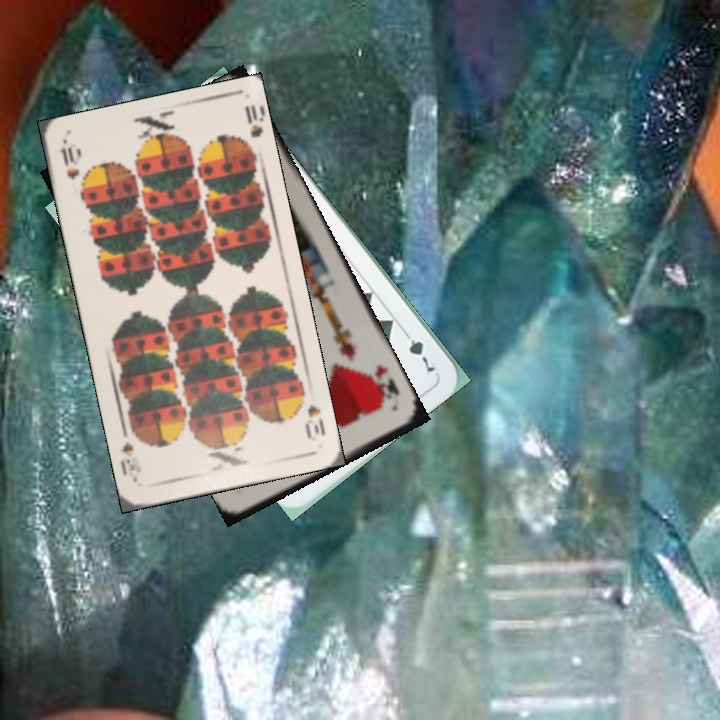G7: (398, 325, 439, 375)
HK: (366, 361, 402, 404)
S10: (294, 386, 328, 444), (55, 143, 82, 182)
